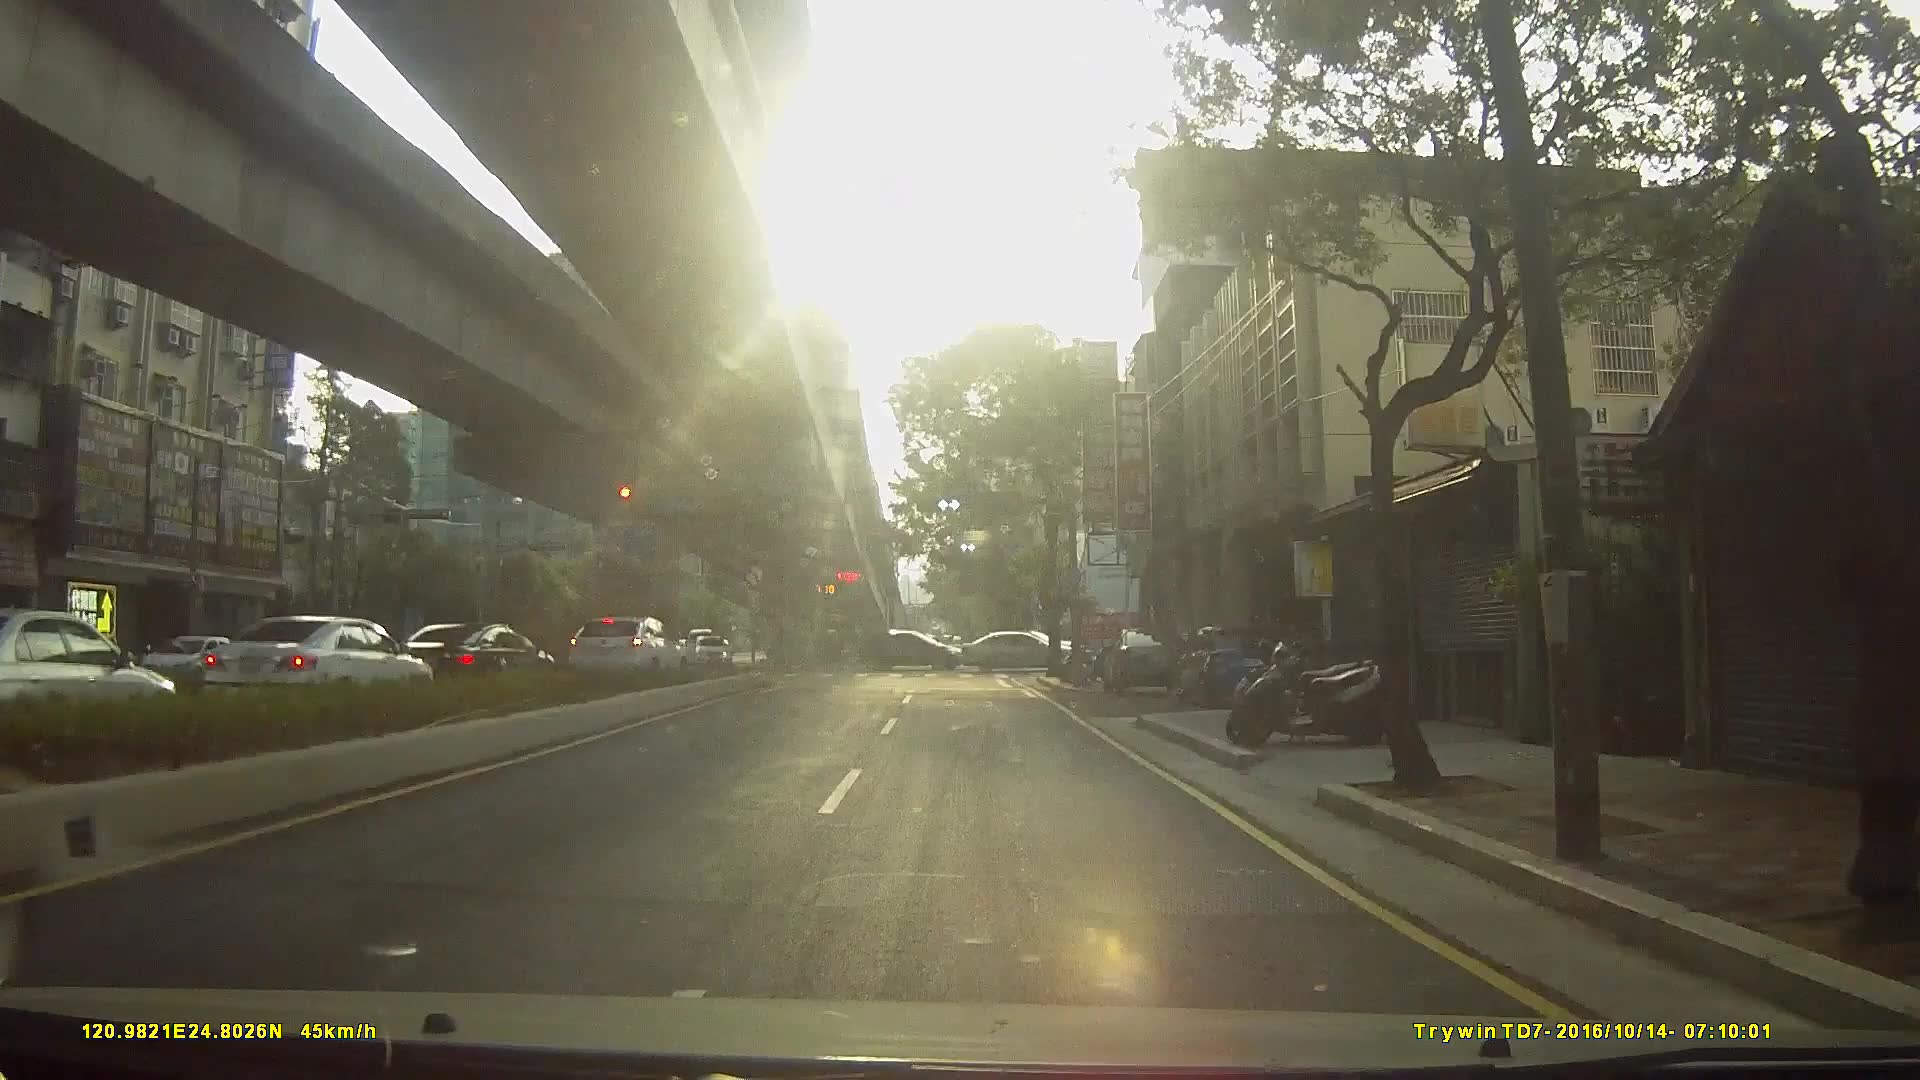vehicle: (1, 611, 183, 746), (183, 611, 425, 707), (382, 618, 551, 691), (1178, 622, 1284, 709), (560, 609, 687, 675), (1098, 621, 1191, 694), (965, 626, 1084, 670), (862, 626, 967, 671), (691, 630, 733, 667)
